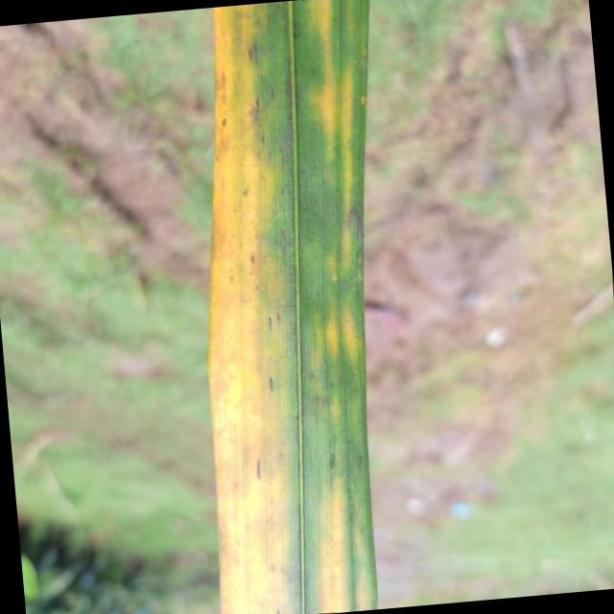Megnesium: (204, 0, 375, 614)
